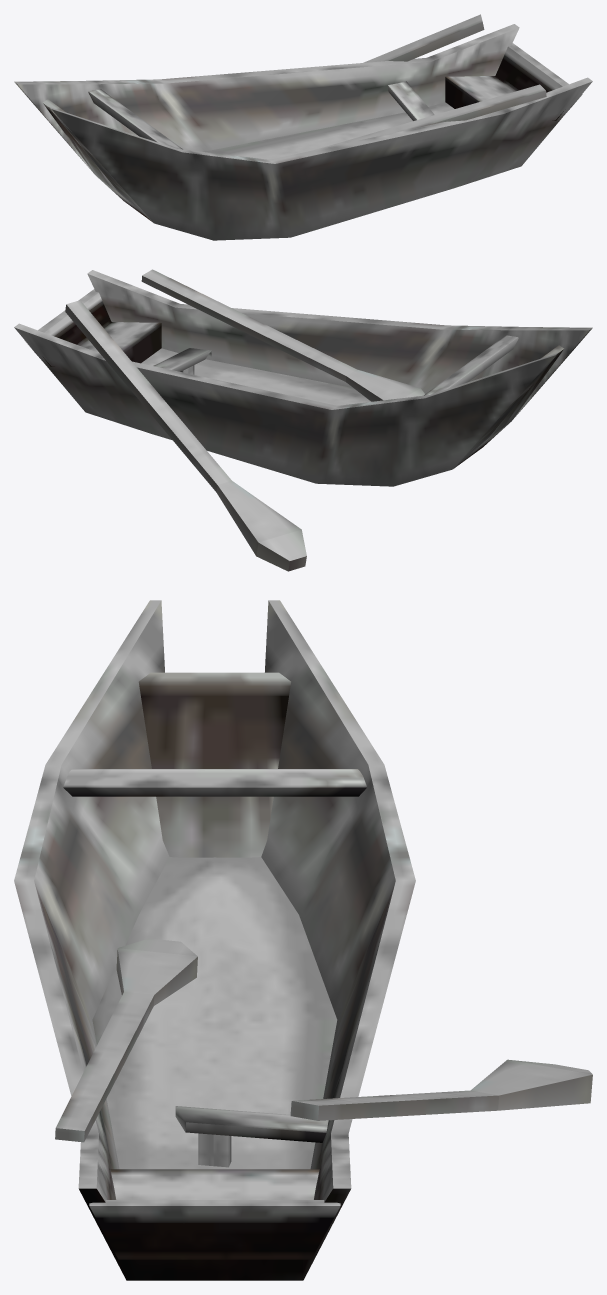
The model's file is general_obj_ferryboat02.fbx.
3 views of the same model, one above another, from view 1: azimuth 30°, elevation 25°; view 2: azimuth 150°, elevation 25°; view 3: azimuth 270°, elevation 25° (orthographic). The views are drawn at different scales.
Parts seen in each view (by area): view 1: Object10; view 2: Object10; view 3: Object10.
Part boxes in pixels (x1,y1,x2,y2): Object10: [14, 14, 592, 240]; Object10: [14, 269, 592, 571]; Object10: [14, 600, 592, 1280].
Size of the model in its own units: 4.77 by 1.71 by 2.64.
